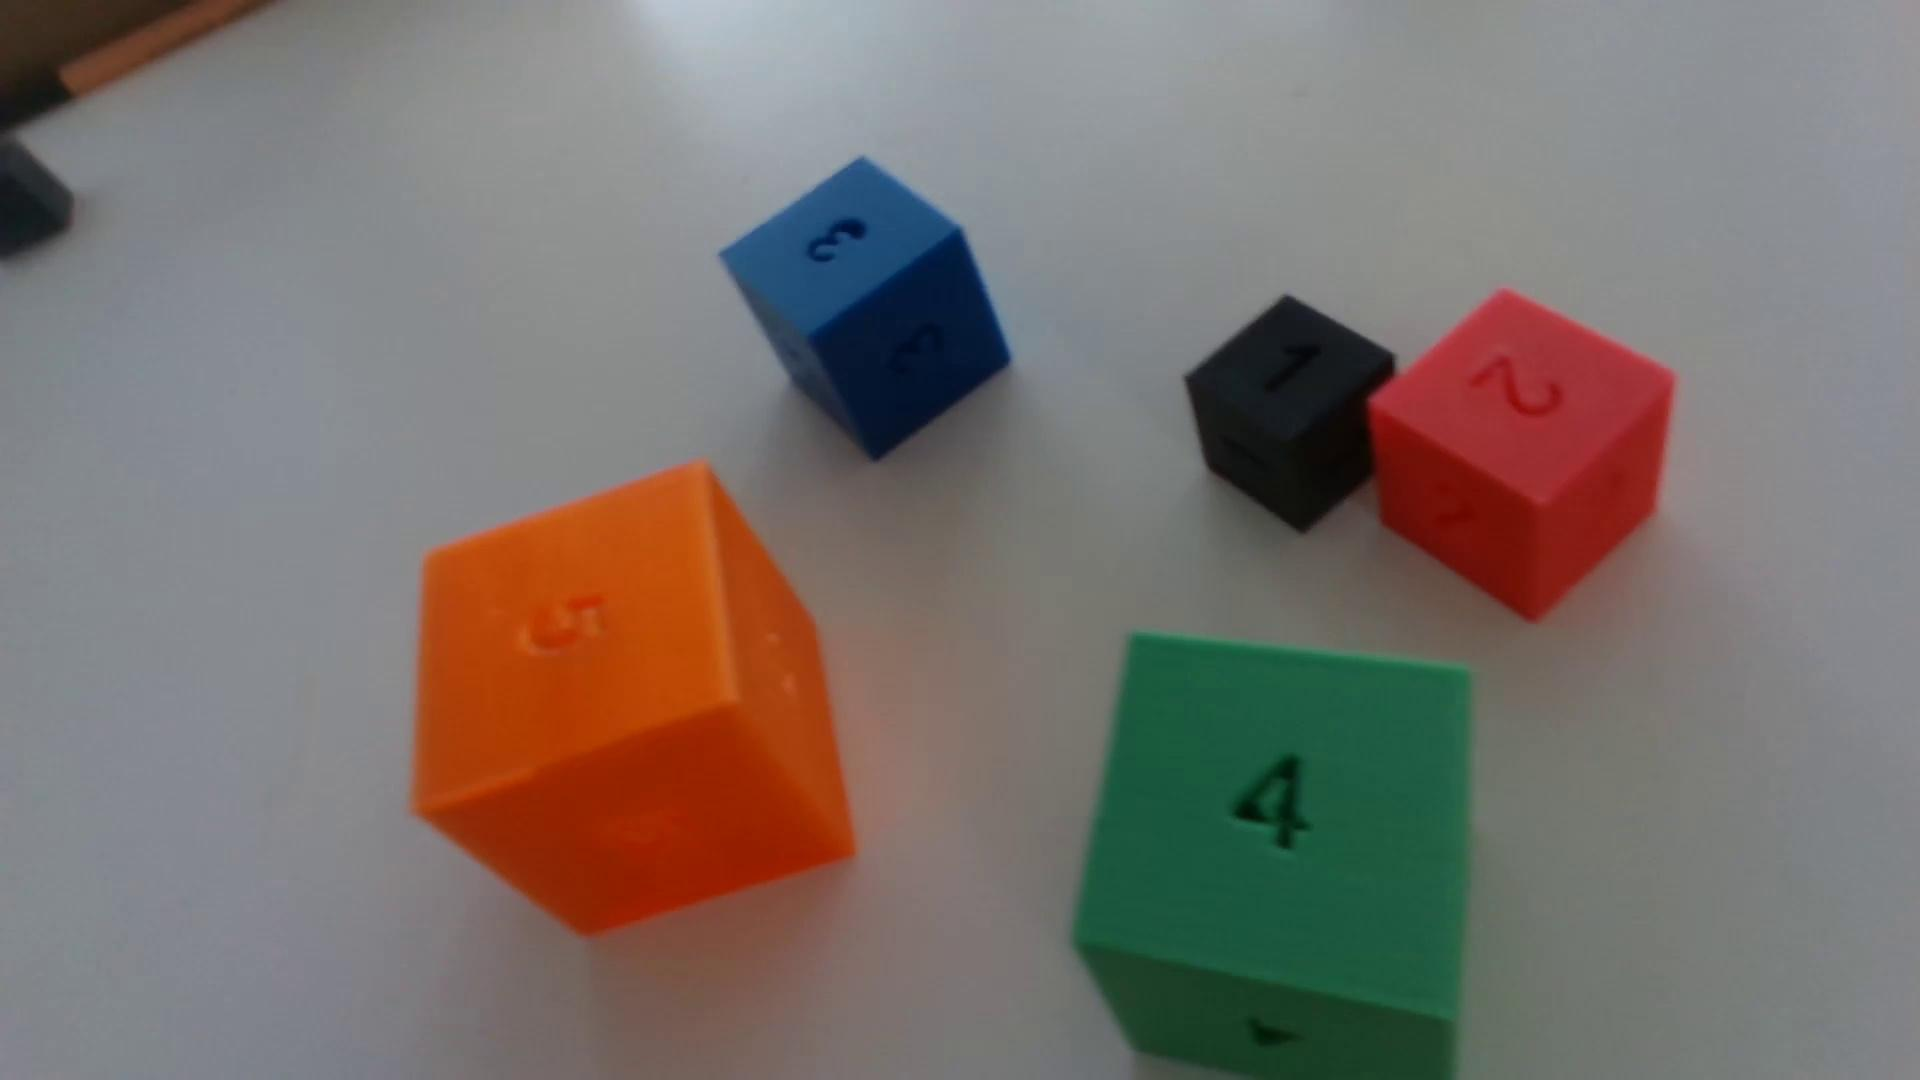black: (1185, 297, 1396, 534)
blue: (721, 160, 1011, 460)
green: (1073, 634, 1472, 1080)
orange: (411, 464, 855, 935)
red: (1369, 291, 1675, 622)
